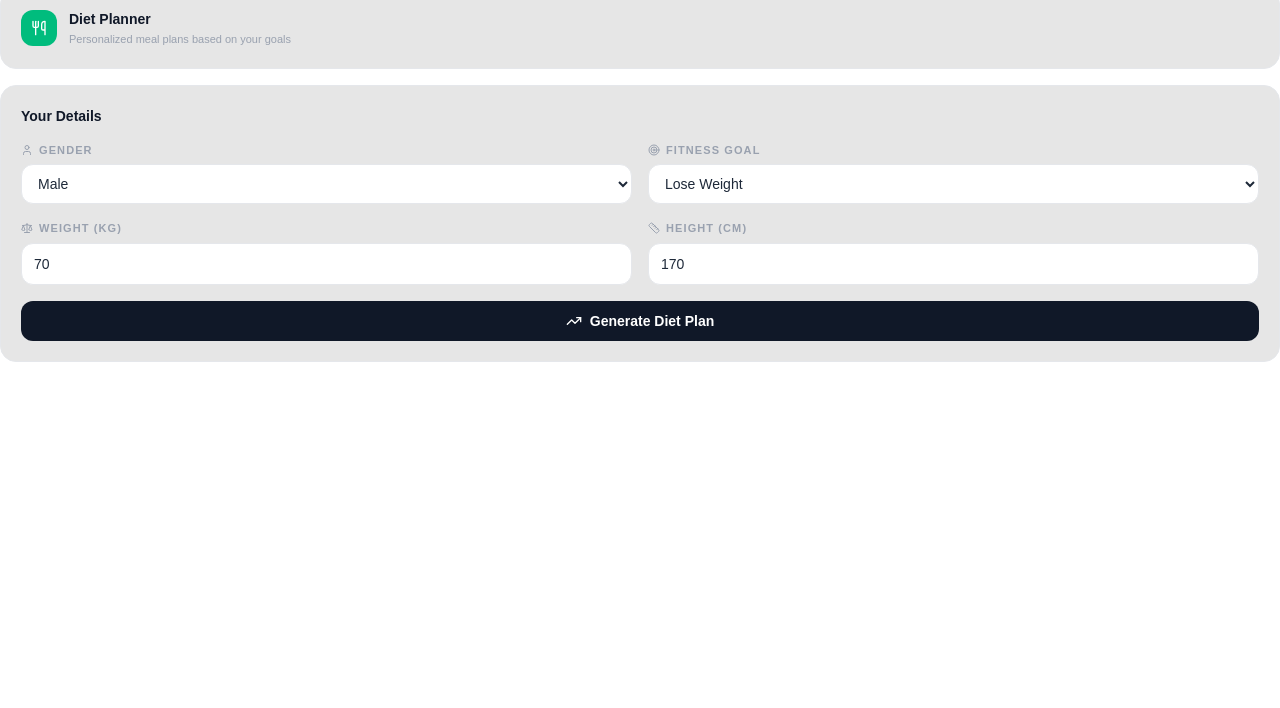
it: shows results after submitting the form
This screenshot has width=1280, height=708.
Expected: the heading "Diet Planner" is shown, left=69, top=11, right=151, bottom=27
Select "Male" in the dropdown labelled "Gender" at (326, 184), box left=21, top=164, right=632, bottom=204
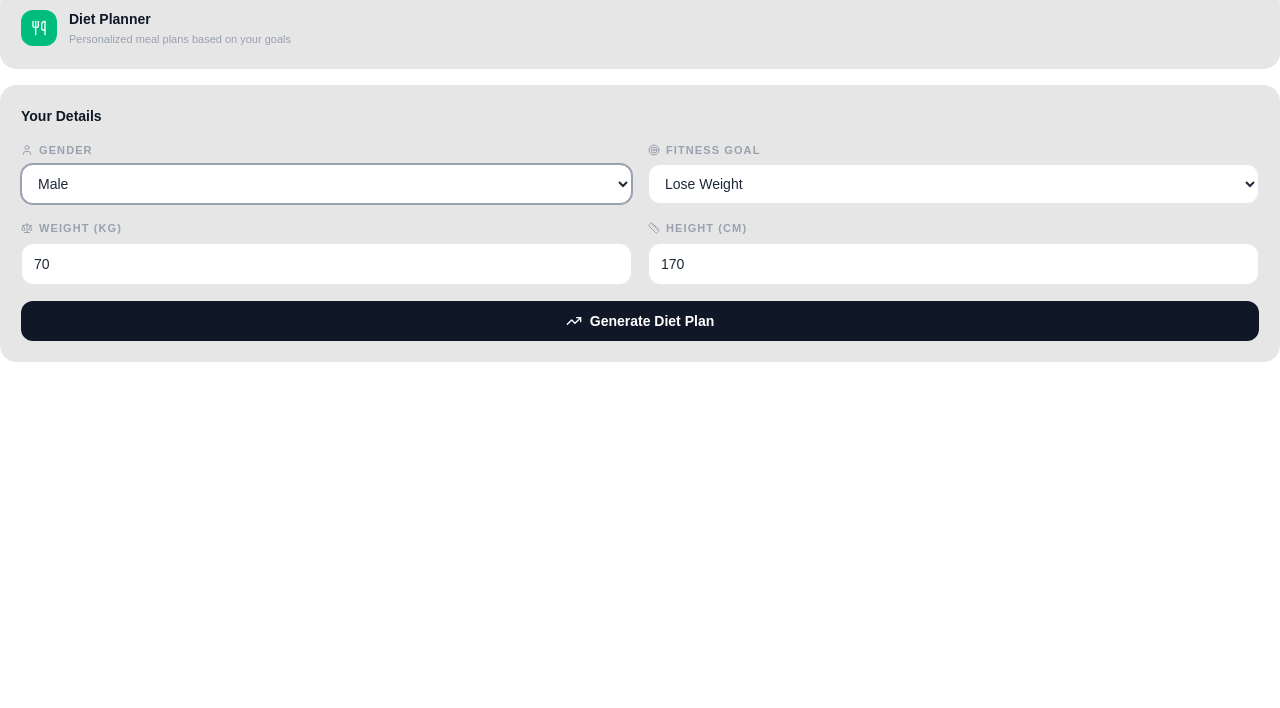
Select "Lose Weight" in the dropdown labelled "Fitness Goal" at (954, 184), box left=648, top=164, right=1259, bottom=204
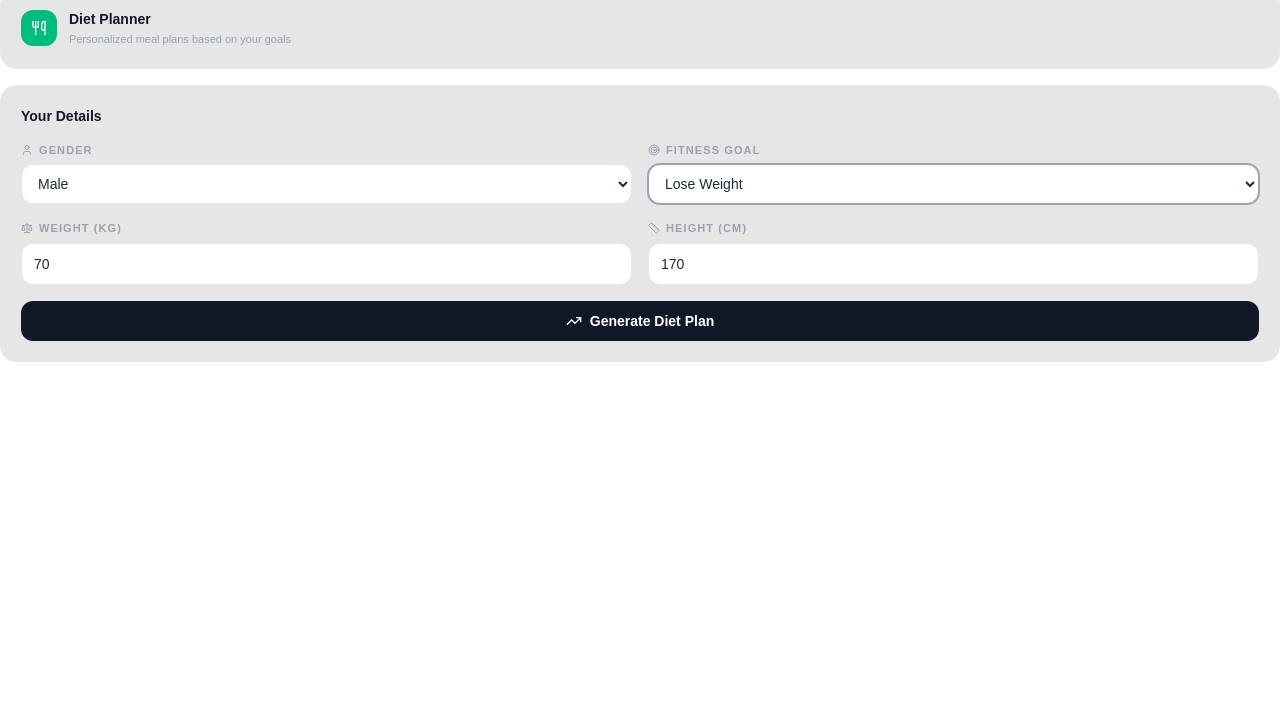
Click the button "Generate Diet Plan" at (640, 320), box left=21, top=300, right=1259, bottom=340
(page scrolled)
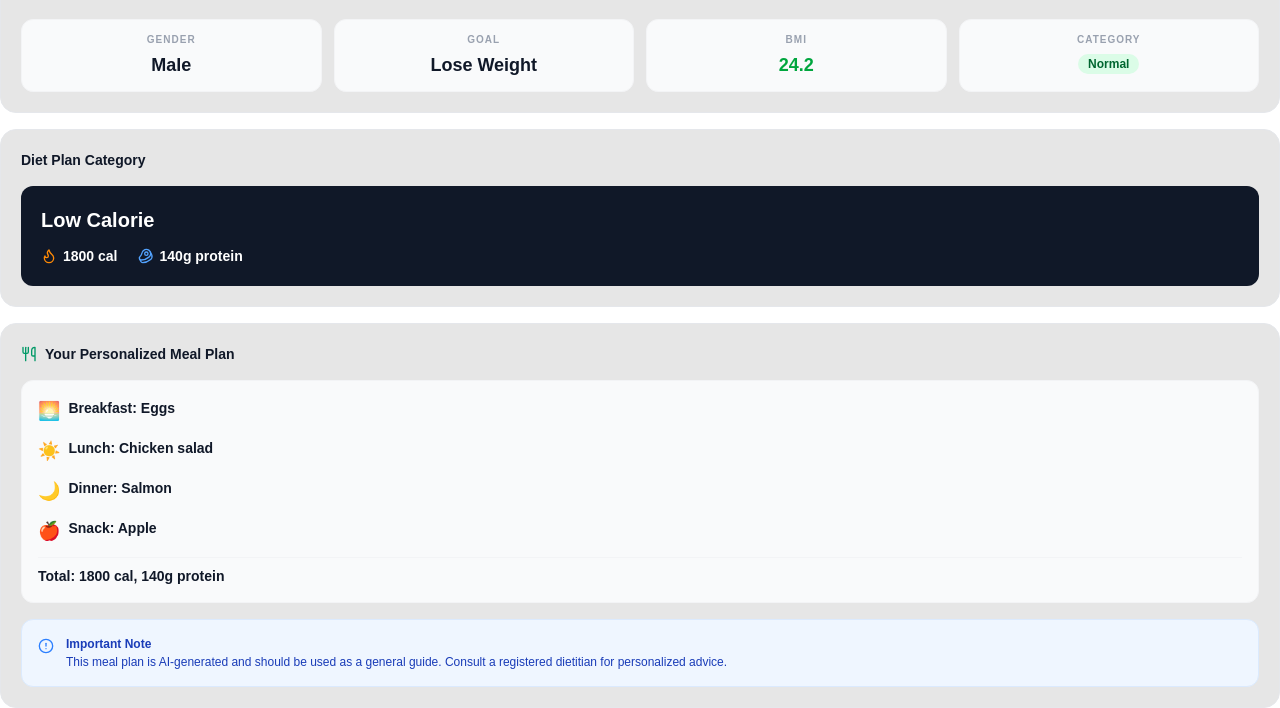
Expected: the text "24.2" is shown, left=779, top=54, right=814, bottom=74
Expected: the text "Low Calorie" is shown, left=41, top=208, right=154, bottom=230
Expected: the text "Breakfast: Eggs" is shown, left=68, top=396, right=175, bottom=419
